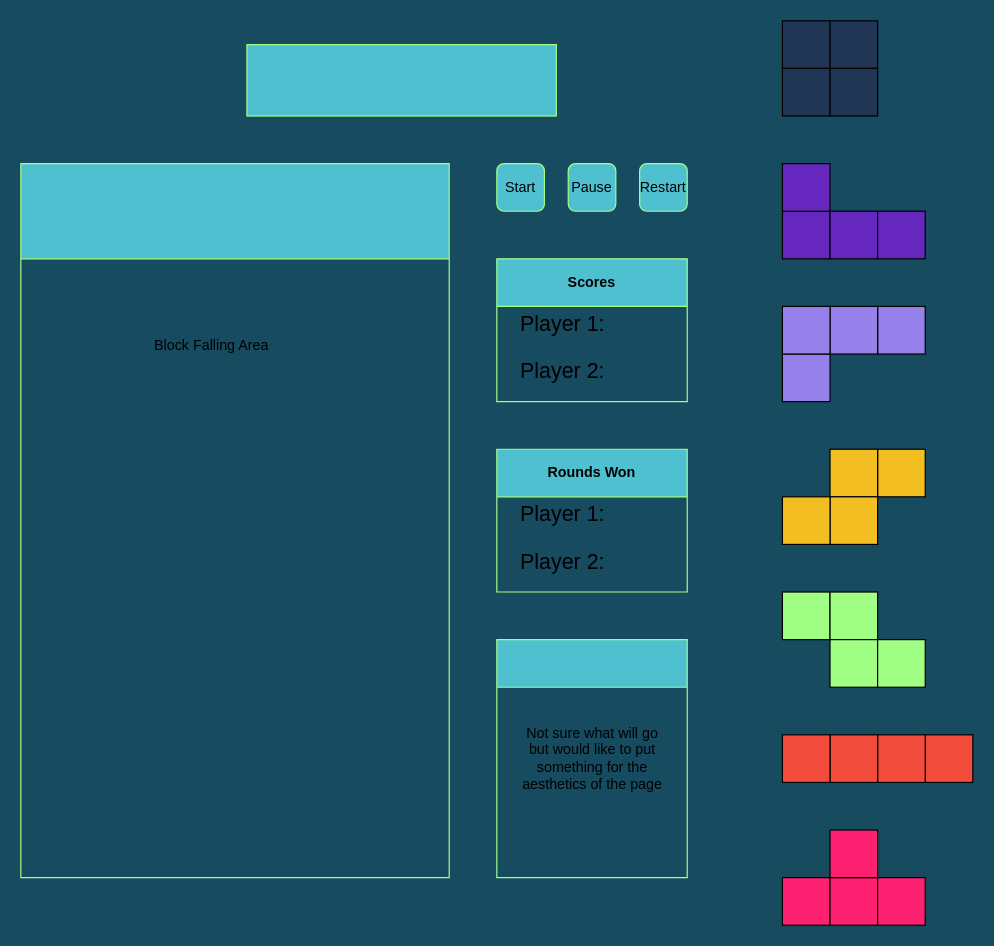
This 994x946 diagram has some shape labels left out. The shapes that lost their labels are listed below. From the top down, each one's box as (x1, y1, x2, y2) in pixels, then its label:
(246, 43, 556, 116): TETRIS
(20, 162, 449, 878): Next Piece Display
(496, 638, 687, 878): Vertical Container
